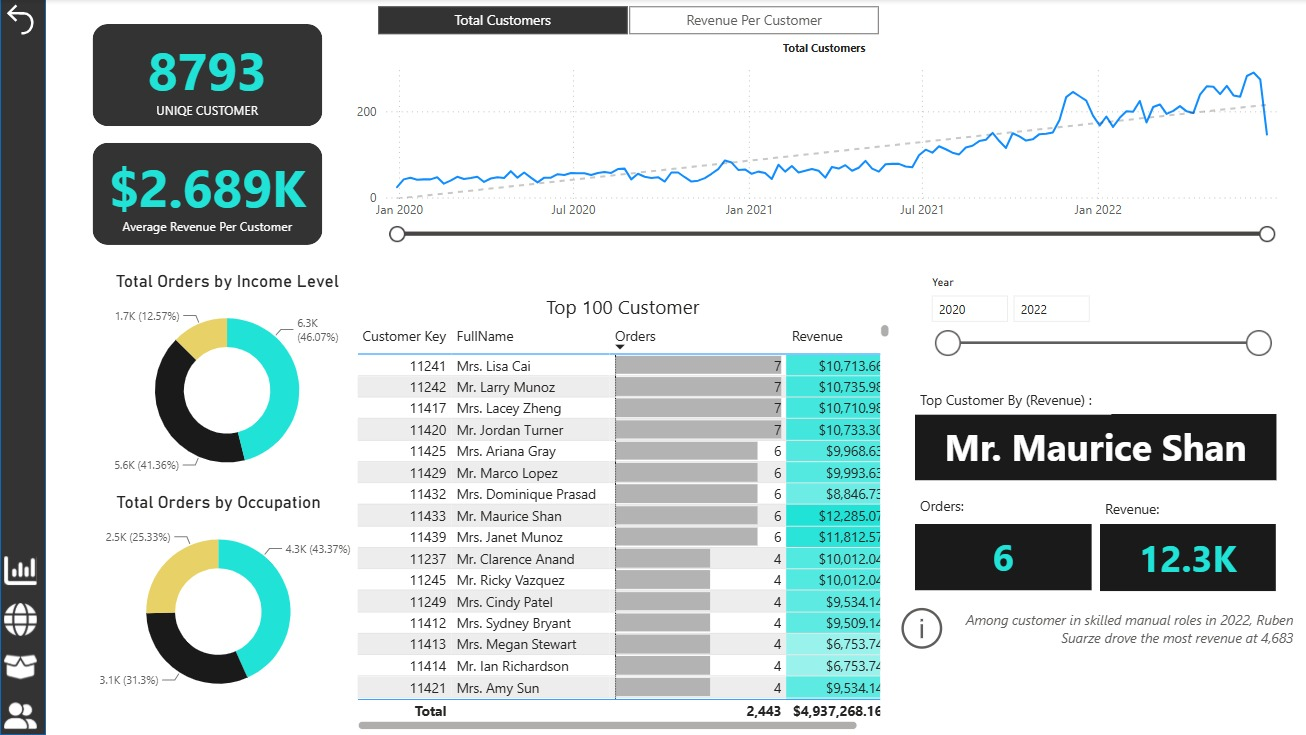

The page's visual inventory and layout, read from the dashboard file:
{"tool":"powerbi","page":{"name":"Customer Detail","canvas":[1280,720],"ordinal":3},"visuals":[{"type":"shape","box":[0,0,45,720.2],"z":0},{"type":"actionButton","box":[0,538.8,45,40],"z":0,"group":"g1"},{"type":"shape","box":[91,24.7,225,100],"z":1000},{"type":"actionButton","box":[0,585.9,45,40],"z":1000,"group":"g1"},{"type":"shape","box":[90.5,140.6,225,100],"z":2000},{"type":"actionButton","box":[0,633,45,40],"z":2000,"group":"g1"},{"type":"card","fields":{"Values":["Measure Table.Total Customers"]},"box":[81.9,0.7,242,150],"z":3000},{"type":"actionButton","box":[0,680.1,45,40],"z":3000,"group":"g1"},{"type":"card","fields":{"Values":["Measure Table.Average Revenue Per Customer"]},"box":[81.9,114.9,242,150],"z":4000},{"type":"lineChart","fields":{"Category":["Calendar Lookup.Date Hierarchy.Start of Year","Calendar Lookup.Date Hierarchy.Start of Month","Calendar Lookup.Date Hierarchy.Start of Week","Calendar Lookup.Date Hierarchy.Date"],"Y":["Measure Table.Total Customers"]},"box":[343.8,40,925,200],"z":5000},{"type":"donutChart","fields":{"Category":["Customer Lookup.Income Level"],"Y":["Measure Table.Total Orders"]},"box":[62.5,265,320,216.2],"z":6000},{"type":"donutChart","fields":{"Category":["Customer Lookup.Occupation"],"Y":["Measure Table.Total Orders"]},"box":[53.8,481.2,320,216.2],"z":7000},{"type":"tableEx","title":"Top 100 Customer","fields":{"Values":["Customer Lookup.CustomerKey","Customer Lookup.FullName","Measure Table.Total Orders","Measure Table.Totall Revenue"]},"box":[343.8,288.8,531.2,431.2],"z":9000},{"type":"card","fields":{"Values":["Min(Customer Lookup.FullName)"]},"box":[894.8,406,353.8,65],"z":10000},{"type":"card","fields":{"Values":["Measure Table.Total Orders Customer Detail"]},"box":[895,513.8,172.5,65],"z":11000},{"type":"card","fields":{"Values":["Measure Table.Total Revenue Customer Detail"]},"box":[1076,513.5,172.1,65.4],"z":12000},{"type":"textbox","box":[894.8,377.3,192,28.4],"z":13000},{"type":"textbox","box":[894.8,482.3,76.2,31.2],"z":14000},{"type":"textbox","box":[1076,484.8,72.5,28.4],"z":15000},{"type":"slicer","fields":{"Values":["Calendar Lookup.Year"]},"box":[898.8,265,353.8,113.8],"z":16000},{"type":"actionButton","box":[875,590,393.8,52.5],"z":17000},{"type":"actionButton","box":[0,0,45,40],"z":18000},{"type":"group","id":"g1","title":"trans bage","box":[0,538.8,45,181.2],"z":19000},{"type":"slicer","fields":{"Values":["Customer Metric Selection.Customer Metric Selection"]},"box":[343.8,0,540,41.2],"z":19501}]}

Visuals, with their boxes on the page's 1280x720 design canvas (x1, y1, x2, y2). These are canvas units, not pixel positions in the 1306x735 screenshot, which may show the page scaled, cropped or inside an application window:
shape: select_region(0, 0, 45, 720)
actionButton: select_region(0, 539, 45, 579)
shape: select_region(91, 25, 316, 125)
actionButton: select_region(0, 586, 45, 626)
shape: select_region(90, 141, 316, 241)
actionButton: select_region(0, 633, 45, 673)
card - Measure Table.Total Customers: select_region(82, 1, 324, 151)
actionButton: select_region(0, 680, 45, 720)
card - Measure Table.Average Revenue Per Customer: select_region(82, 115, 324, 265)
lineChart - Calendar Lookup.Date Hierarchy.Start of Year x Calendar Lookup.Date Hierarchy.Start of Month: select_region(344, 40, 1269, 240)
donutChart - Customer Lookup.Income Level x Measure Table.Total Orders: select_region(62, 265, 382, 481)
donutChart - Customer Lookup.Occupation x Measure Table.Total Orders: select_region(54, 481, 374, 697)
"Top 100 Customer" tableEx: select_region(344, 289, 875, 720)
card - Min(Customer Lookup.FullName): select_region(895, 406, 1249, 471)
card - Measure Table.Total Orders Customer Detail: select_region(895, 514, 1068, 579)
card - Measure Table.Total Revenue Customer Detail: select_region(1076, 514, 1248, 579)
textbox: select_region(895, 377, 1087, 406)
textbox: select_region(895, 482, 971, 514)
textbox: select_region(1076, 485, 1148, 513)
slicer - Calendar Lookup.Year: select_region(899, 265, 1253, 379)
actionButton: select_region(875, 590, 1269, 642)
actionButton: select_region(0, 0, 45, 40)
"trans bage" group: select_region(0, 539, 45, 720)
slicer - Customer Metric Selection.Customer Metric Selection: select_region(344, 0, 884, 41)
